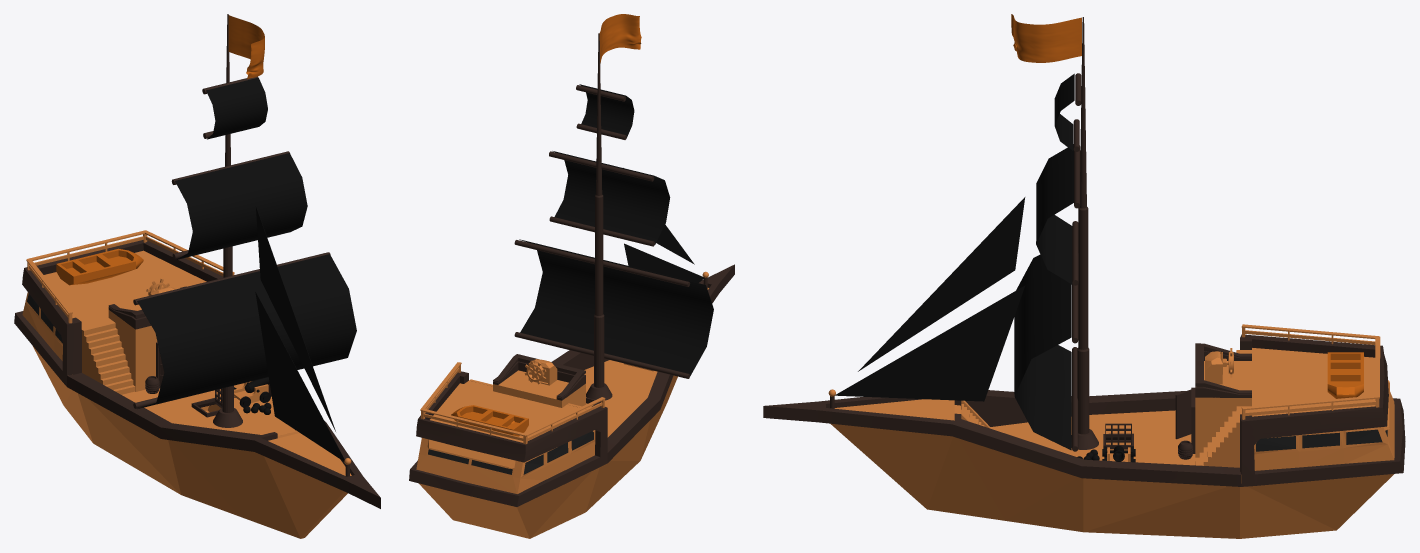
Rendered from uploads_files_1923458_pirate.FBX.
3 views of the same model, side by side, from view 1: azimuth 30°, elevation 25°; view 2: azimuth 150°, elevation 25°; view 3: azimuth 270°, elevation 25° (orthographic). The views are drawn at different scales.
Parts seen in each view (by area): view 1: Pirate Ship, Plane003, Plane002, Line004, StraightStair001, Plane001, Line003, Boat, Plane004, Cylinder001, Cabin001, Railing003 (+4 smaller); view 2: Pirate Ship, Plane003, Plane002, Cabin001, Cylinder001, Plane001, Plane004, Boat, Wheel, Line004, Cylinder002, Cylinder005 (+7 smaller); view 3: Pirate Ship, Plane003, Line004, Line003, Cabin001, Plane002, Cylinder001, Plane004, Boat, StraightStair002, Wheel, Railing002 (+3 smaller).
Part boxes in pixels (x1,y1,x2,y2): Pirate Ship: (14, 240, 380, 538); Plane003: (137, 254, 356, 408); Plane002: (175, 153, 307, 259); Line004: (255, 291, 344, 461); StraightStair001: (82, 321, 135, 394); Plane001: (206, 77, 267, 139); Line003: (256, 206, 335, 431); Boat: (56, 248, 143, 285); Plane004: (228, 15, 264, 79); Cylinder001: (213, 14, 242, 427); Cabin001: (22, 292, 62, 360); Railing003: (27, 230, 147, 270); Pirate Ship: (409, 264, 734, 538); Plane003: (519, 239, 713, 376); Plane002: (552, 151, 670, 244); Cabin001: (416, 430, 595, 493); Cylinder001: (586, 33, 612, 400); Plane001: (579, 84, 634, 138); Plane004: (599, 14, 641, 63); Boat: (451, 405, 528, 436); Wheel: (493, 354, 585, 400); Line004: (624, 243, 704, 282); Cylinder002: (514, 240, 690, 286); Cylinder005: (514, 332, 690, 378); Pirate Ship: (763, 334, 1405, 538); Plane003: (1014, 254, 1071, 450); Line004: (835, 285, 1025, 401); Line003: (858, 197, 1025, 371); Cabin001: (1254, 380, 1394, 470); Plane002: (1036, 144, 1073, 284); Cylinder001: (1071, 17, 1098, 449); Plane004: (1011, 14, 1081, 62); Boat: (1327, 352, 1363, 398); StraightStair002: (1195, 406, 1240, 467); Wheel: (1195, 343, 1251, 397); Railing002: (1241, 395, 1379, 419).
Bounding box in the file's own units: 142 × 327 × 388.
